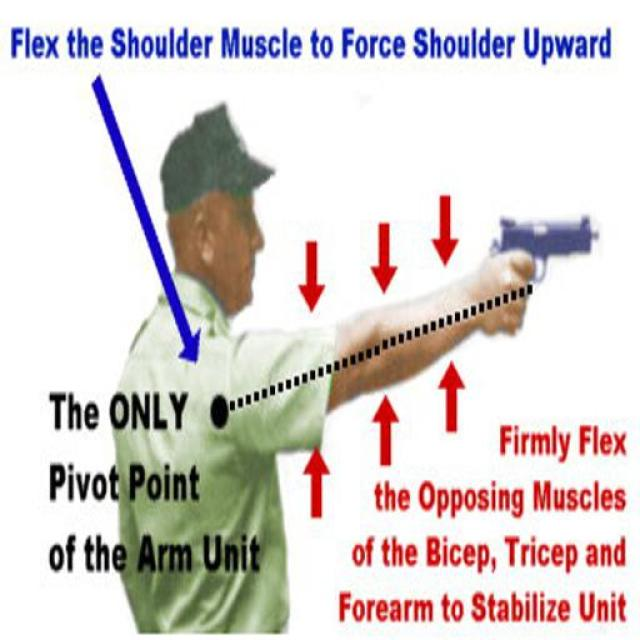pistol: (480, 205, 596, 349)
